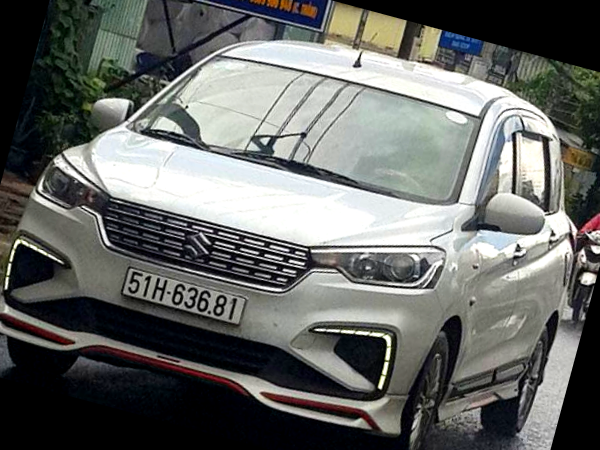lisence: (122, 269, 248, 325)
